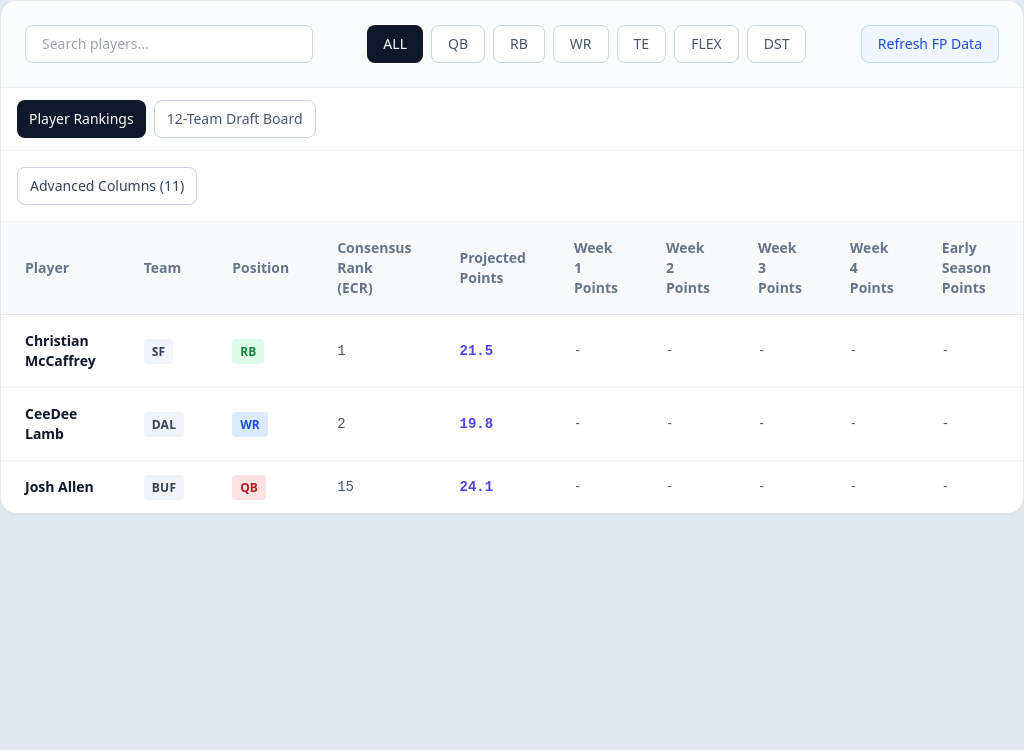
Test: DashboardClient › recomputes snake picks when draft position changes
Click the tab with test id "tab-draft-board" at (235, 119), box [154,100,316,138]
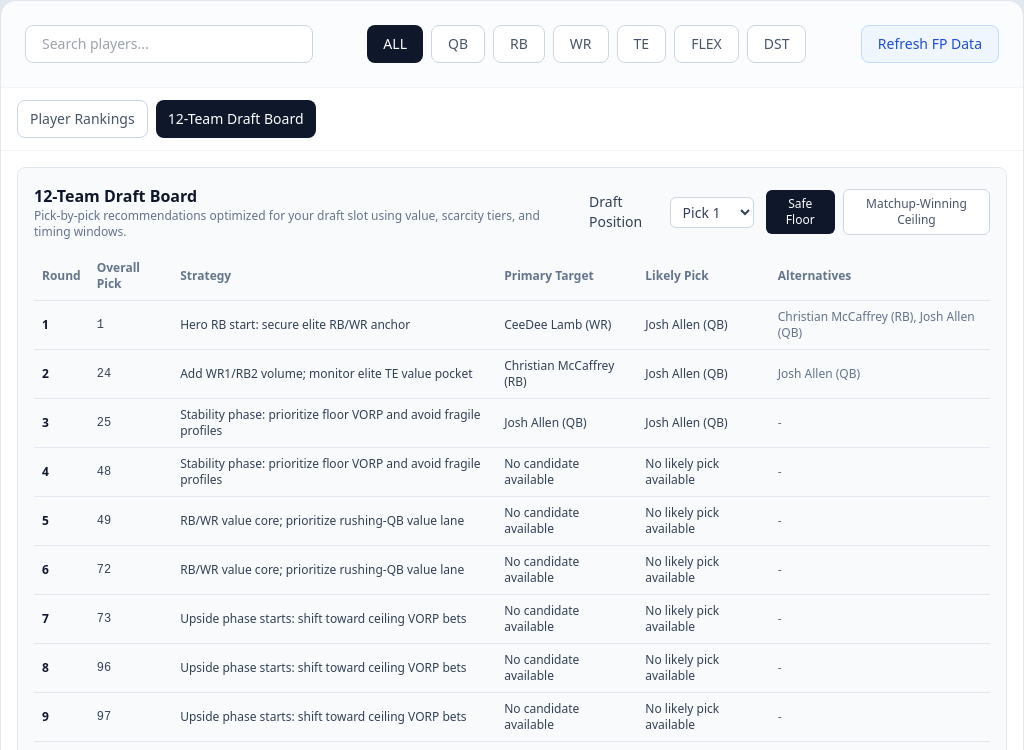
Select "Pick 12" in the dropdown with test id "draft-position-select" at (712, 212), box [670,196,754,228]
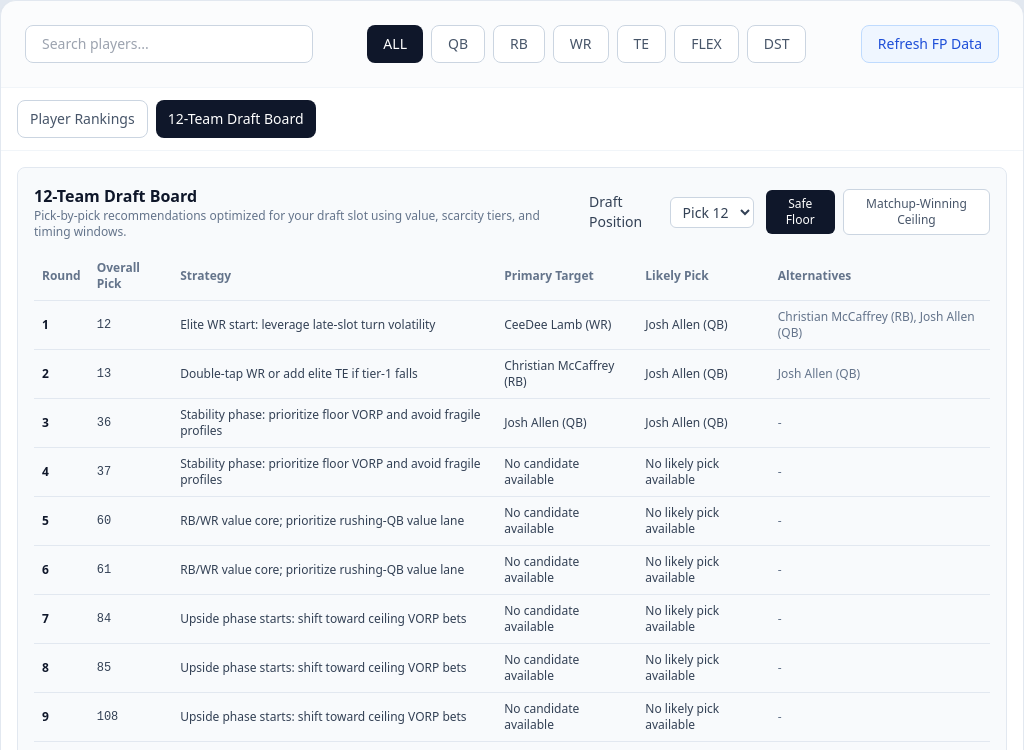
Expected: the cell with test id "draft-board-pick-1" reads "12", [97,318,111,332]
Expected: the cell with test id "draft-board-pick-2" reads "13", [97,367,111,381]
